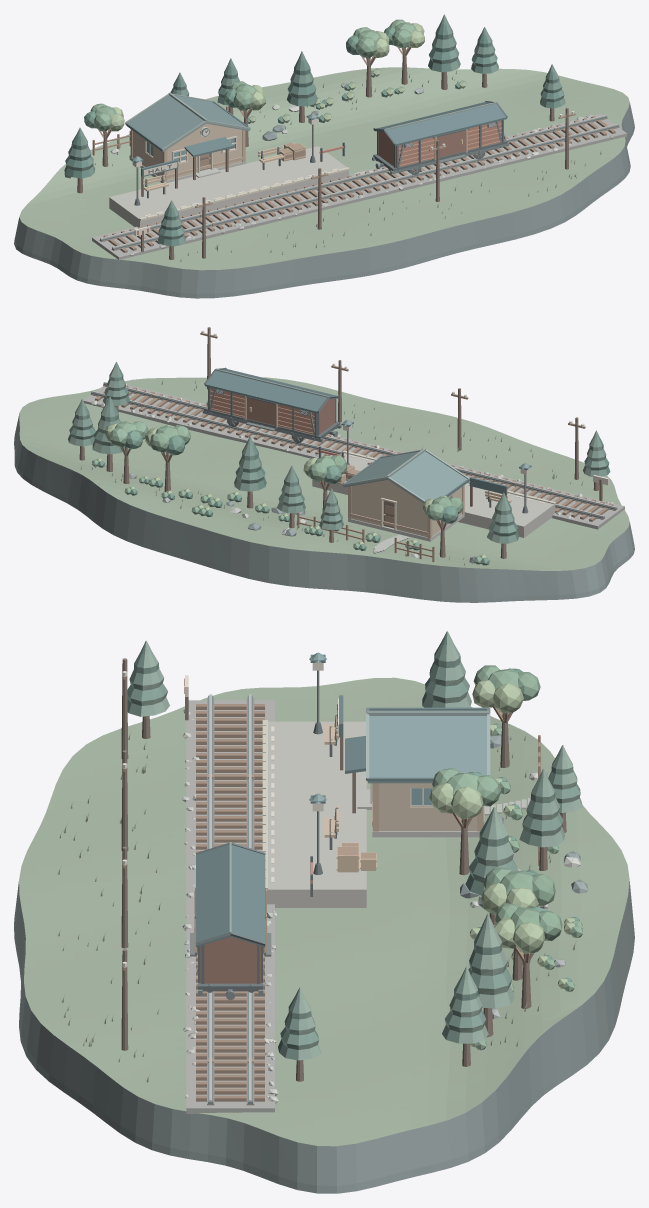
Rendered from rural-railway-stop-freight-wagon-yup.glb.
3 renders of one model, top to bottom at view 1: azimuth 30°, elevation 25°; view 2: azimuth 150°, elevation 25°; view 3: azimuth 270°, elevation 25°, orthographic. The views are drawn at different scales.
Visible parts, largest first — view 1: terrain__grass, terrain__rock_dark, platform__platform, railway__ballast, railway__sleeper, nature__pine_dark, nature__pine, station__roof, wagon__roof_dark, nature__leaf, station__brick_light, railway__rail (+20 smaller); view 2: terrain__grass, terrain__rock_dark, nature__pine, railway__ballast, nature__leaf, station__roof, railway__sleeper, platform__platform, station__brick_light, wagon__roof_dark, nature__leaf_dark, nature__pine_light (+19 smaller); view 3: terrain__grass, terrain__rock_dark, platform__platform, railway__sleeper, nature__pine, railway__ballast, nature__pine_light, station__roof, wagon__roof_dark, nature__leaf, nature__leaf_light, station__brick_light (+14 smaller).
Boxes of the visible parts, x1,y1,x2,y2 form: terrain__grass: (19,67,629,270); terrain__rock_dark: (14,103,634,298); platform__platform: (109,146,348,227); railway__ballast: (92,114,626,260); railway__sleeper: (103,116,615,252); nature__pine_dark: (65,23,560,246); nature__pine: (64,14,565,244); station__roof: (126,95,249,152); wagon__roof_dark: (374,102,506,146); nature__leaf: (90,19,466,131); station__brick_light: (133,123,241,180); railway__rail: (100,116,619,249); terrain__grass: (19,377,629,570); terrain__rock_dark: (14,413,634,602); nature__pine: (69,362,608,543); railway__ballast: (83,385,624,529); nature__leaf: (92,421,482,564); station__roof: (343,451,468,502); railway__sleeper: (95,385,613,521); platform__platform: (312,453,555,537); station__brick_light: (351,480,461,536); wagon__roof_dark: (205,369,339,413); nature__leaf_dark: (97,430,489,565); nature__pine_light: (68,362,596,543); terrain__grass: (19,677,629,1146); terrain__rock_dark: (14,881,634,1193); platform__platform: (267,721,366,907); railway__sleeper: (196,704,264,1101); nature__pine: (127,631,580,1060); railway__ballast: (186,700,274,1113); nature__pine_light: (141,631,582,1060); station__roof: (368,709,486,783); wagon__roof_dark: (196,844,265,947); nature__leaf: (432,665,582,1050); nature__leaf_light: (429,680,575,1047); station__brick_light: (379,783,477,831).
Size of the model in its own units: 52.79 by 8.77 by 29.07.
